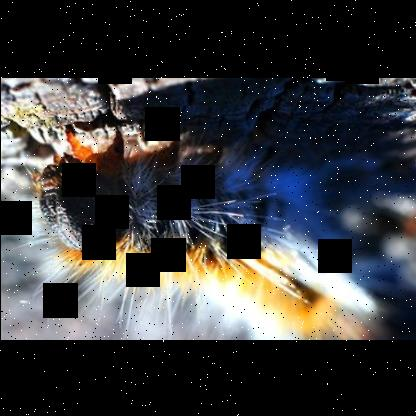oruga: (12, 124, 364, 320)
